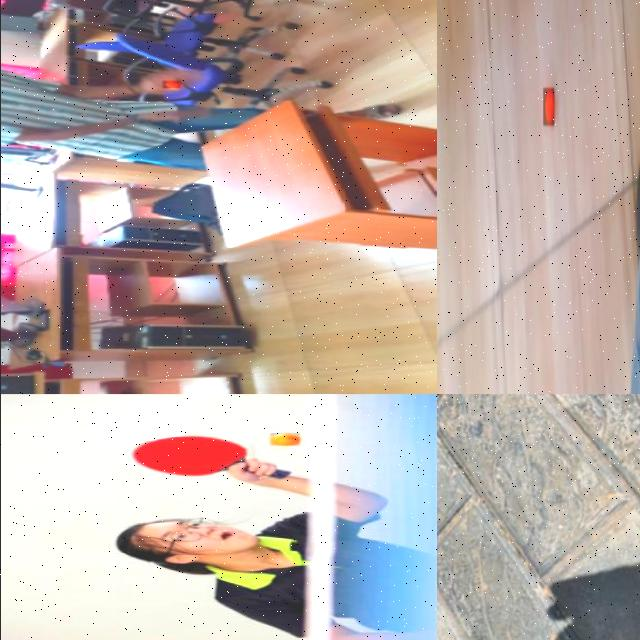ping-pong-ball: (542, 88, 554, 128), (269, 432, 300, 446), (162, 81, 180, 89)
